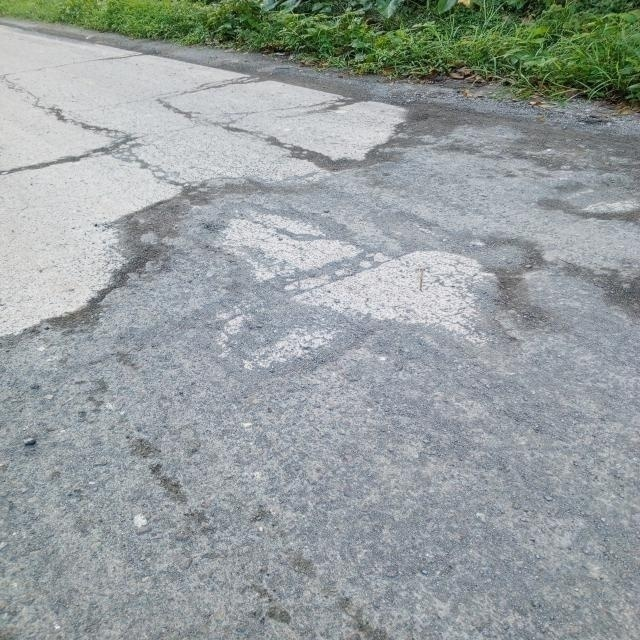pothole: (140, 184, 586, 411)
